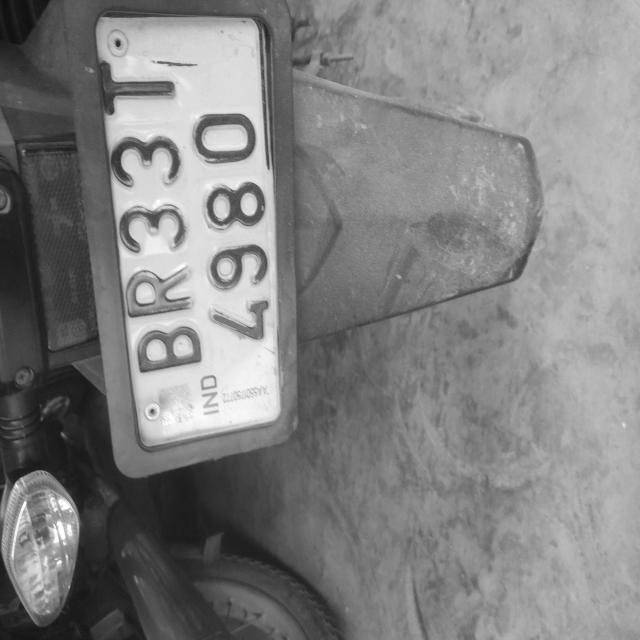license-plate: (126, 85, 474, 397)
